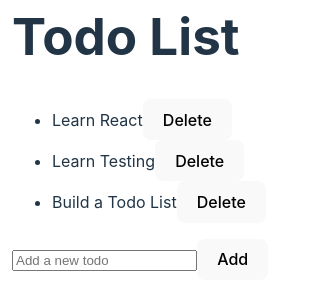
deletes a todo when delete button is clicked
The image size is (332, 288).
Click the button "Delete" next to "Learn React" at (187, 120), box x1=143 y1=99 x2=232 y2=140
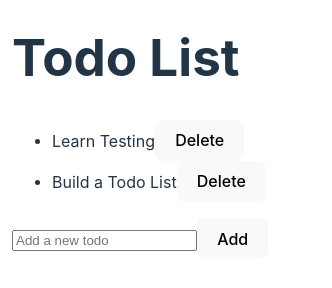
Result: the list item "Learn React" is gone
